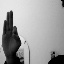f: (1, 10, 22, 55)
